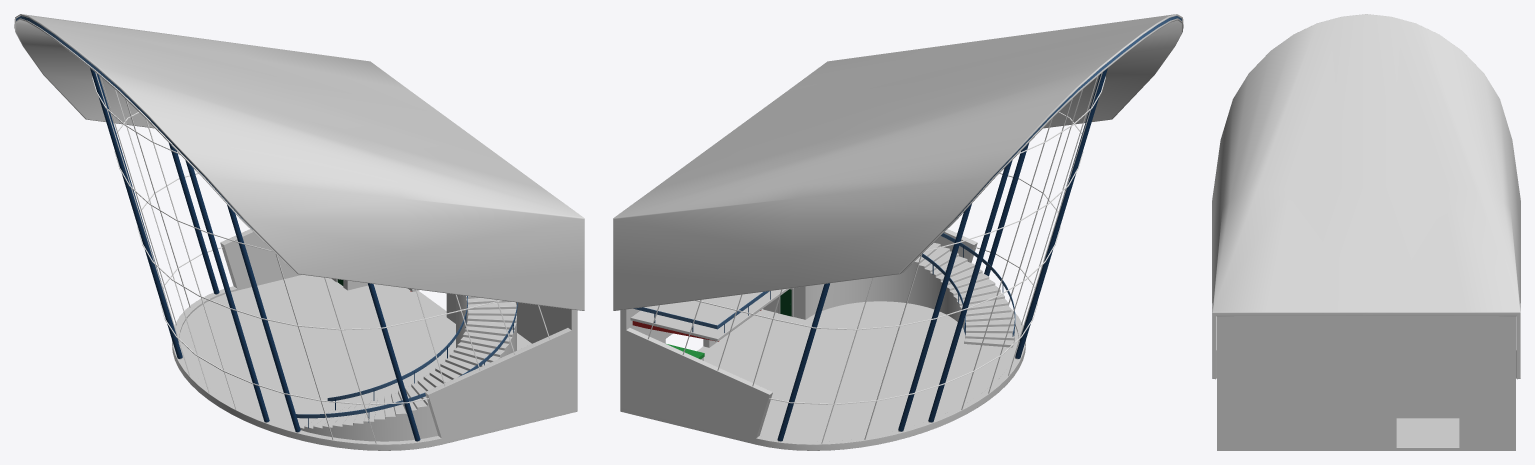
File: Environment_69ftx48ft_MM001.fbx
3 views of the same model, side by side, from view 1: azimuth 30°, elevation 25°; view 2: azimuth 150°, elevation 25°; view 3: azimuth 270°, elevation 25° (orthographic). The views are drawn at different scales.
Parts seen in each view (by area): view 1: Roof, Floor_Carpet, Walls, Inner_Structure, Roof_Supports, Windows_Framing, Floor; view 2: Roof, Floor_Carpet, Inner_Structure, Walls, Roof_Supports, Windows_Framing, Floor; view 3: Roof, Walls, Floor_Carpet, Floor.
Boxes of the visible parts, x1,y1,x2,y2 form: Roof: [14, 14, 584, 310]; Floor_Carpet: [179, 275, 455, 431]; Walls: [172, 229, 577, 446]; Inner_Structure: [296, 278, 531, 441]; Roof_Supports: [90, 68, 420, 441]; Windows_Framing: [92, 72, 549, 443]; Floor: [172, 342, 577, 450]; Roof: [613, 14, 1183, 310]; Floor_Carpet: [697, 301, 1018, 441]; Inner_Structure: [630, 233, 1015, 360]; Walls: [620, 229, 1025, 446]; Roof_Supports: [777, 68, 1107, 441]; Windows_Framing: [648, 72, 1105, 443]; Floor: [620, 342, 1025, 450]; Roof: [1212, 14, 1520, 379]; Walls: [1217, 316, 1515, 447]; Floor_Carpet: [1396, 418, 1459, 447]; Floor: [1217, 448, 1515, 450].
Size of the model in its own units: 3341 by 3038 by 2930.
